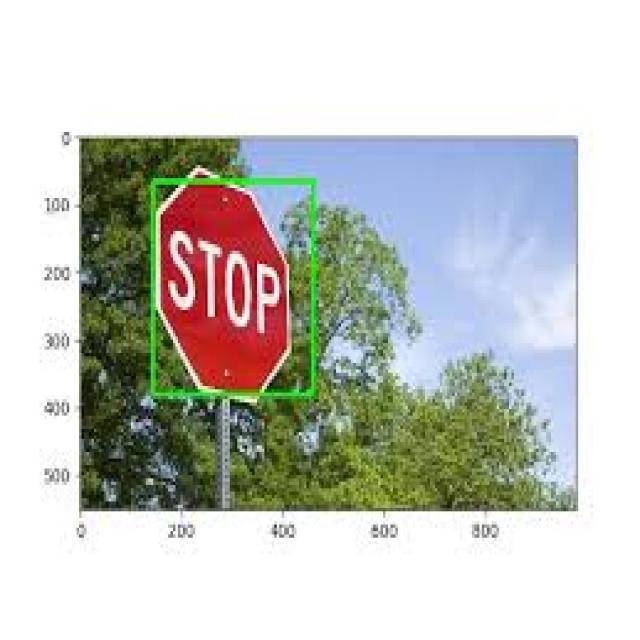stop-sign: (156, 192, 314, 395)
